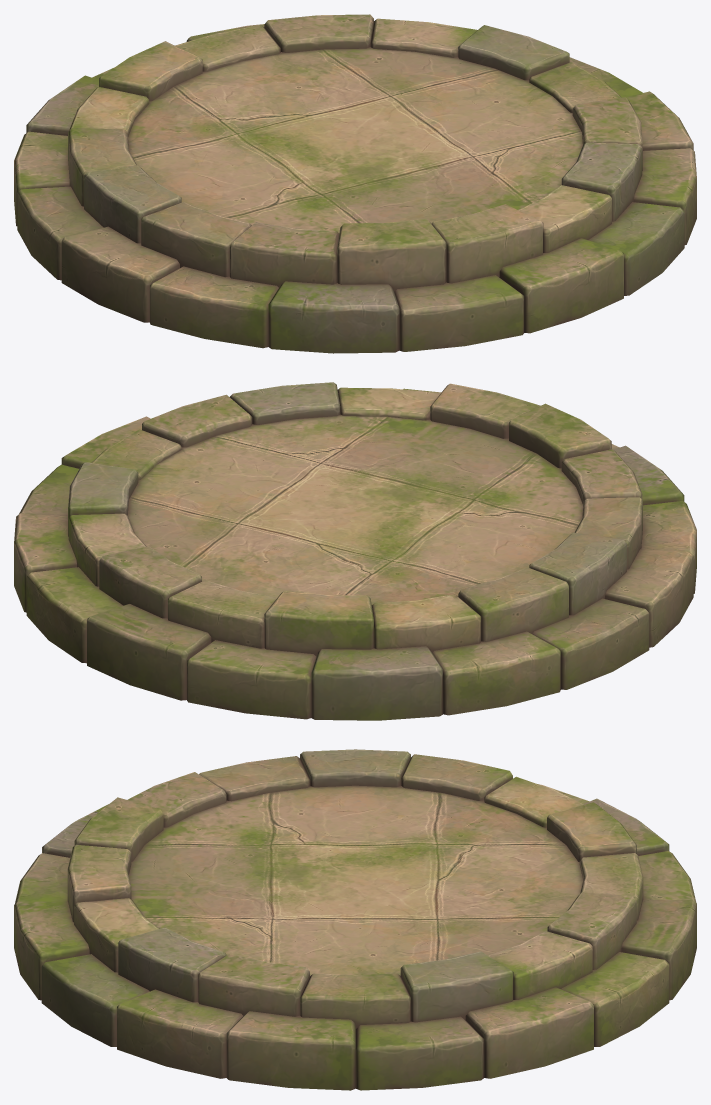
File: SM_Obelisk_Pedestal.fbx
3 renders of one model, top to bottom at view 1: azimuth 30°, elevation 25°; view 2: azimuth 150°, elevation 25°; view 3: azimuth 270°, elevation 25°, orthographic.
Parts seen in each view (by area): view 1: SM_Obelisk_Pedestal_LOD0; view 2: SM_Obelisk_Pedestal_LOD0; view 3: SM_Obelisk_Pedestal_LOD0.
Part boxes in pixels (left/top/right/bottom): SM_Obelisk_Pedestal_LOD0: left=14, top=14, right=696, bottom=353; SM_Obelisk_Pedestal_LOD0: left=14, top=382, right=696, bottom=720; SM_Obelisk_Pedestal_LOD0: left=14, top=749, right=696, bottom=1090.
Size of the model in its own units: 306 by 306 by 41.43.
Materials: 1 (1 with a texture image).
